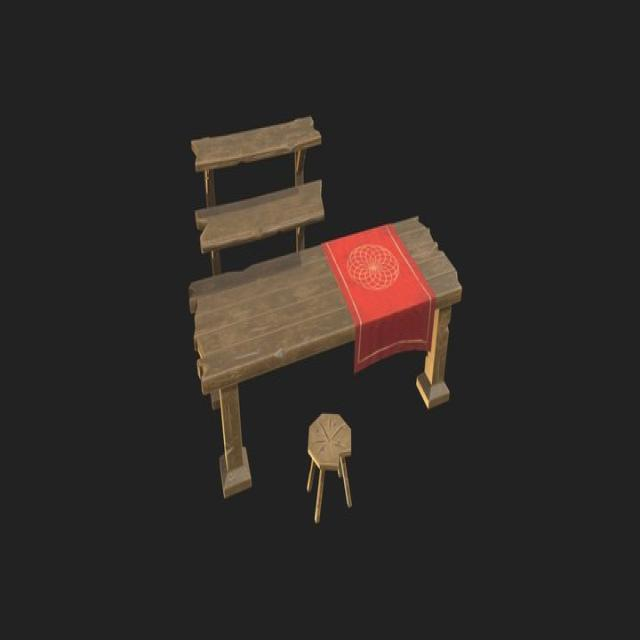chair: (304, 412, 358, 527)
table: (185, 216, 464, 502)
